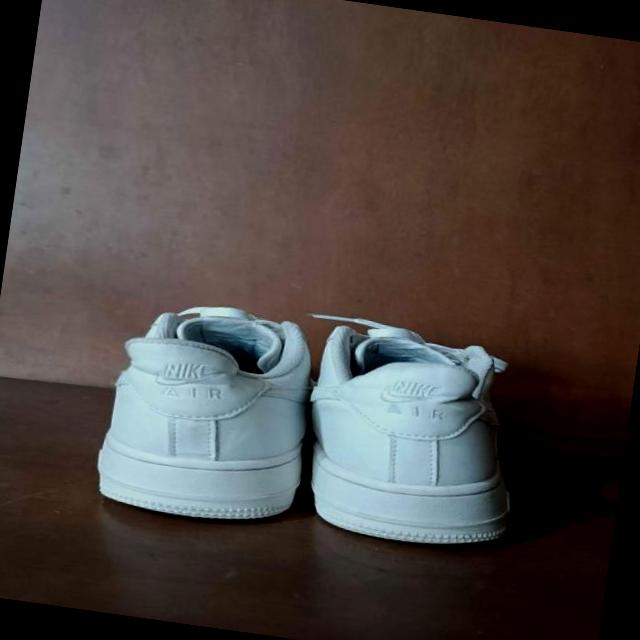nike_original_airforce: (294, 318, 540, 560), (86, 286, 322, 532)
